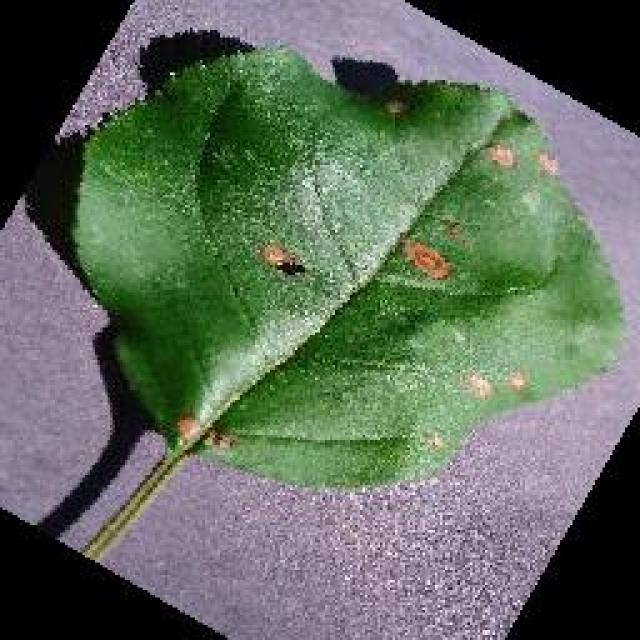Apple___Black_rot: (67, 40, 634, 495)
